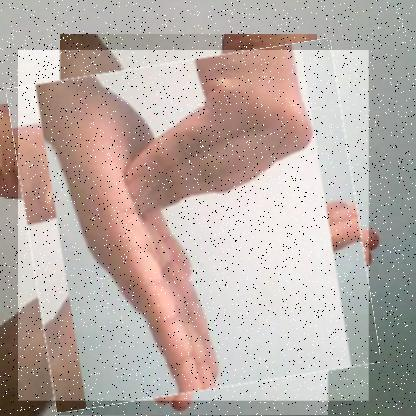Z: (18, 50, 370, 402)
